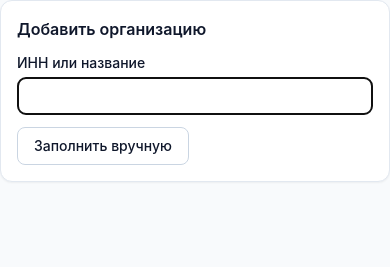
мастер добавления компании › предлагает ручной ввод, когда DaData выключена
Later steps or results of the test are not shown.
Type "Ромашка" into the field labelled "ИНН или название" at (195, 96), box 17,77 -> 373,115
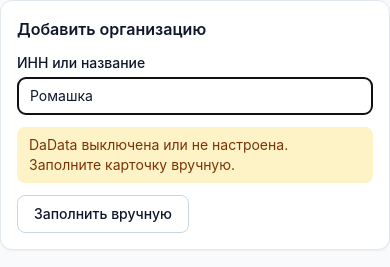
Check: the text "DaData выключена или не настроена. Заполните карточку вручную." is shown, box 17,127 -> 373,183
